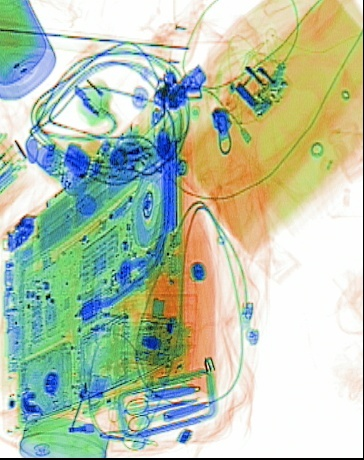scissors: (122, 393, 197, 433)
